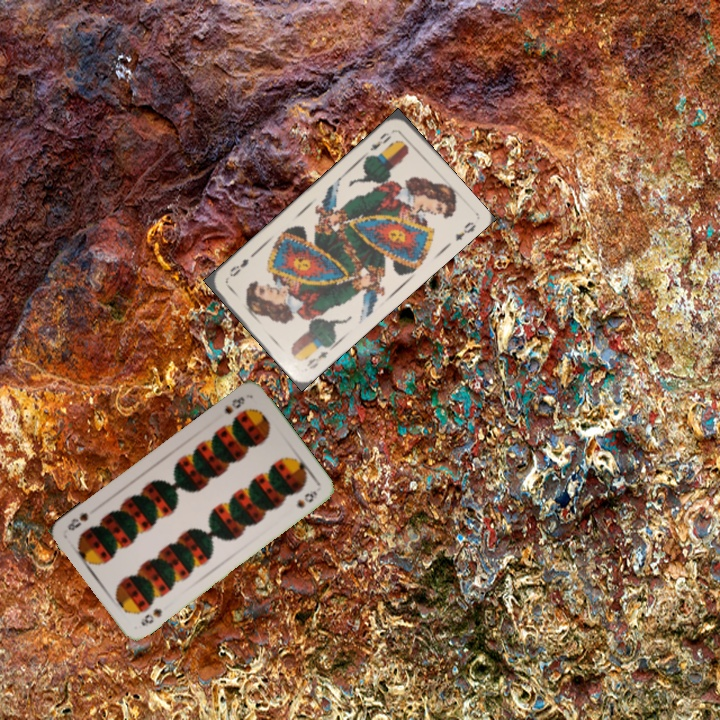EO: (366, 128, 394, 153), (303, 347, 331, 372)
S8: (136, 604, 165, 629), (220, 393, 247, 417)
